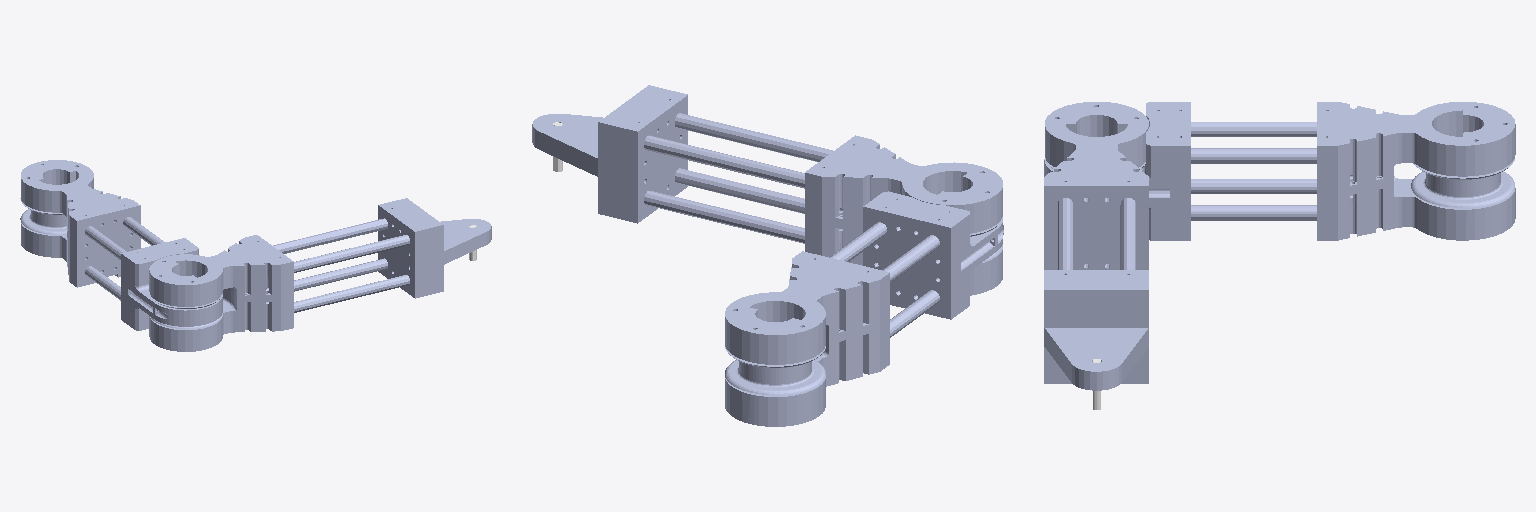
URDF robot description (hitc_robot_description):
<?xml version="1.0" encoding="utf-8"?>
<robot
  name="hitc_robot_description">
  <link
    name="base_link">
    <inertial>
      <origin
        xyz="0.401377631632734 -5.42647926593531E-10 -0.0374917413193446"
        rpy="0 0 0" />
      <mass
        value="4.99823696772836" />
      <inertia
        ixx="0.0169614503869467"
        ixy="1.82208119440503E-12"
        ixz="0.00916365672383926"
        iyy="0.0927621254573851"
        iyz="-5.38015033963661E-13"
        izz="0.0980634664778845" />
    </inertial>
    <visual>
      <origin
        xyz="0 0 0"
        rpy="0 0 0" />
      <geometry>
        <mesh
          filename="package://hitc_robot_description/meshes/base_link.STL" />
      </geometry>
      <material
        name="">
        <color
          rgba="0.792156862745098 0.819607843137255 0.933333333333333 1" />
      </material>
    </visual>
    <collision>
      <origin
        xyz="0 0 0"
        rpy="0 0 0" />
      <geometry>
        <mesh
          filename="package://hitc_robot_description/meshes/base_link.STL" />
      </geometry>
    </collision>
  </link>
  <link
    name="link1">
    <inertial>
      <origin
        xyz="0.127457003524061 -1.66929969847018E-09 -0.000990640181740554"
        rpy="0 0 0" />
      <mass
        value="1.72026761826256" />
      <inertia
        ixx="0.00177938157163666"
        ixy="-9.4060960083813E-12"
        ixz="-2.49254869471981E-05"
        iyy="0.00317233580151515"
        iyz="-1.4014510001681E-12"
        izz="0.00368233924319515" />
    </inertial>
    <visual>
      <origin
        xyz="0 0 0"
        rpy="0 0 0" />
      <geometry>
        <mesh
          filename="package://hitc_robot_description/meshes/link1.STL" />
      </geometry>
      <material
        name="">
        <color
          rgba="0.792156862745098 0.819607843137255 0.933333333333333 1" />
      </material>
    </visual>
    <collision>
      <origin
        xyz="0 0 0"
        rpy="0 0 0" />
      <geometry>
        <mesh
          filename="package://hitc_robot_description/meshes/link1.STL" />
      </geometry>
    </collision>
  </link>
  <joint
    name="base_L1"
    type="continuous">
    <origin
      xyz="0.12 0 0"
      rpy="0 0 -1.5708" />
    <parent
      link="base_link" />
    <child
      link="link1" />
    <axis
      xyz="0 0 -1" />
  </joint>
  <link
    name="link2">
    <inertial>
      <origin
        xyz="0.158530574013467 -8.8272111842258E-11 -0.000944098416044925"
        rpy="0 0 0" />
      <mass
        value="1.8050728626833" />
      <inertia
        ixx="0.00178995617439375"
        ixy="-1.0988672006776E-11"
        ixz="-2.49254872137544E-05"
        iyy="0.00368804540569939"
        iyz="-8.57094406206046E-13"
        izz="0.00415400281586314" />
    </inertial>
    <visual>
      <origin
        xyz="0 0 0"
        rpy="0 0 0" />
      <geometry>
        <mesh
          filename="package://hitc_robot_description/meshes/link2.STL" />
      </geometry>
      <material
        name="">
        <color
          rgba="0.792156862745098 0.819607843137255 0.933333333333333 1" />
      </material>
    </visual>
    <collision>
      <origin
        xyz="0 0 0"
        rpy="0 0 0" />
      <geometry>
        <mesh
          filename="package://hitc_robot_description/meshes/link2.STL" />
      </geometry>
    </collision>
  </link>
  <joint
    name="L1-L2"
    type="continuous">
    <origin
      xyz="0.35 0 0"
      rpy="0 0 1.5708" />
    <parent
      link="link1" />
    <child
      link="link2" />
    <axis
      xyz="0 0 -1" />
  </joint>
  <link
    name="end_effector">
    <inertial>
      <origin
        xyz="1.11022302462516E-16 1.38777878078145E-16 -0.0149999999999987"
        rpy="0 0 0" />
      <mass
        value="0.00358860280590412" />
      <inertia
        ixx="7.64546352100259E-07"
        ixy="-1.83961764179075E-23"
        ixz="-3.78162657713518E-23"
        iyy="7.71890352100259E-07"
        iyz="1.48263814265779E-21"
        izz="4.11855350738015E-08" />
    </inertial>
    <visual>
      <origin
        xyz="0 0 0"
        rpy="0 0 0" />
      <geometry>
        <mesh
          filename="package://hitc_robot_description/meshes/end_effector.STL" />
      </geometry>
      <material
        name="">
        <color
          rgba="1 1 1 1" />
      </material>
    </visual>
    <collision>
      <origin
        xyz="0 0 0"
        rpy="0 0 0" />
      <geometry>
        <mesh
          filename="package://hitc_robot_description/meshes/end_effector.STL" />
      </geometry>
    </collision>
  </link>
  <joint
    name="L2-EE"
    type="continuous">
    <origin
      xyz="0.45 0 0"
      rpy="0 0 0" />
    <parent
      link="link2" />
    <child
      link="end_effector" />
    <axis
      xyz="0 0 -1" />
  </joint>
</robot>

--- Render facts (derived) ---
The picture shows the robot from 3 angles, left to right: view 1: azimuth 30°, elevation 25°; view 2: azimuth 150°, elevation 25°; view 3: azimuth 270°, elevation 25°; orthographic projection.
Robot: hitc_robot_description — 4 links, 3 joints (3 continuous); root link base_link; default pose: every joint at zero.
Visible links, largest first — view 1: link2, link1; view 2: link2, link1; view 3: link1, link2.
Boxes of the visible links, x1,y1,x2,y2 form: link2: [149, 198, 491, 351]; link1: [20, 160, 222, 330]; link2: [532, 85, 1002, 295]; link1: [725, 191, 1003, 426]; link1: [1044, 102, 1515, 240]; link2: [1044, 102, 1148, 390].
Bounding box of the posed robot: 0.525 × 0.45 × 0.1 m (x, y, z).
Meshes: 4 distinct files referenced, 3 mesh visuals loaded (3 binary STL); not drawn: 1 (file found but could not be loaded).